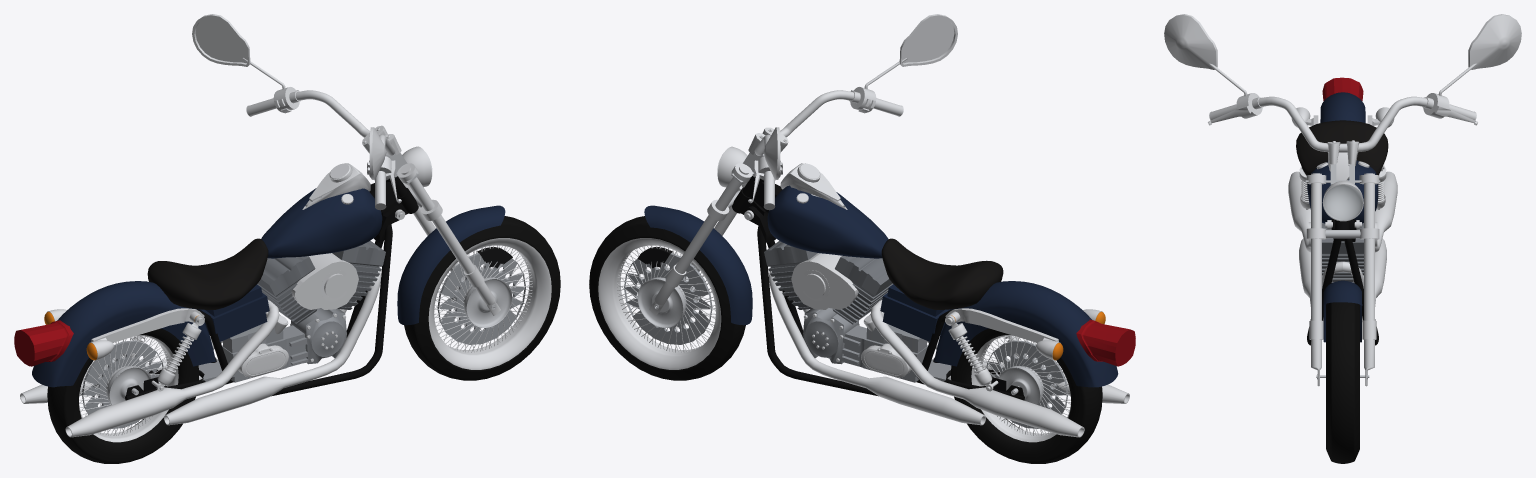
Rendered from dyna2.glb.
The picture shows the model from 3 angles, left to right: view 1: azimuth 30°, elevation 25°; view 2: azimuth 150°, elevation 25°; view 3: azimuth 270°, elevation 25°; orthographic projection.
Parts seen in each view (by area): view 1: pCylinder325, pTorus2, pCube4, curve4, pPipe3, pPipe2, pCube1, pCylinder525, pCylinder524, pCylinder547, pTorus1, pCylinder502 (+16 smaller); view 2: pCylinder325, pTorus2, pCube4, curve4, pPipe3, pPipe2, pCube1, pCylinder525, pCylinder524, pCylinder547, pTorus1, pCylinder502 (+16 smaller); view 3: curve4, pPipe3, pCube1, pCylinder503, pCylinder511, pCylinder525, pCylinder524, pSphere1, pTorus2, pSphere2, pCylinder573, pCube6 (+4 smaller).
Part boxes in pixels (x1=…): pCylinder325: x1=428, y1=238, x2=551, y2=369; pTorus2: x1=32, y1=281, x2=215, y2=387; pCube4: x1=261, y1=188, x2=382, y2=258; curve4: x1=192, y1=14, x2=401, y2=210; pPipe3: x1=404, y1=216, x2=560, y2=380; pPipe2: x1=47, y1=328, x2=199, y2=463; pCube1: x1=147, y1=238, x2=268, y2=309; pCylinder525: x1=20, y1=299, x2=279, y2=437; pCylinder524: x1=158, y1=271, x2=380, y2=425; pCylinder547: x1=222, y1=308, x2=346, y2=382; pTorus1: x1=397, y1=205, x2=505, y2=325; pCylinder502: x1=437, y1=253, x2=525, y2=344; pCylinder325: x1=598, y1=238, x2=721, y2=369; pTorus2: x1=934, y1=281, x2=1118, y2=387; pCube4: x1=767, y1=185, x2=888, y2=258; curve4: x1=748, y1=14, x2=957, y2=210; pPipe3: x1=589, y1=216, x2=745, y2=380; pPipe2: x1=950, y1=328, x2=1102, y2=463; pCube1: x1=881, y1=238, x2=1003, y2=309; pCylinder525: x1=870, y1=300, x2=1129, y2=437; pCylinder524: x1=769, y1=271, x2=991, y2=425; pCylinder547: x1=803, y1=308, x2=927, y2=382; pTorus1: x1=644, y1=205, x2=752, y2=325; pCylinder502: x1=624, y1=253, x2=712, y2=344; curve4: x1=1164, y1=14, x2=1521, y2=152; pPipe3: x1=1326, y1=302, x2=1359, y2=463; pCube1: x1=1296, y1=120, x2=1388, y2=175; pCylinder503: x1=1306, y1=173, x2=1326, y2=386; pCylinder511: x1=1359, y1=173, x2=1379, y2=386; pCylinder525: x1=1288, y1=171, x2=1397, y2=252; pCylinder524: x1=1299, y1=238, x2=1386, y2=321; pSphere1: x1=1322, y1=181, x2=1363, y2=221; pTorus2: x1=1320, y1=92, x2=1365, y2=122; pSphere2: x1=1323, y1=185, x2=1362, y2=220; pCylinder573: x1=1307, y1=238, x2=1378, y2=345; pCube6: x1=1322, y1=223, x2=1363, y2=282.
Bounding box in the file's own units: 18.25 × 11.47 × 10.65.
